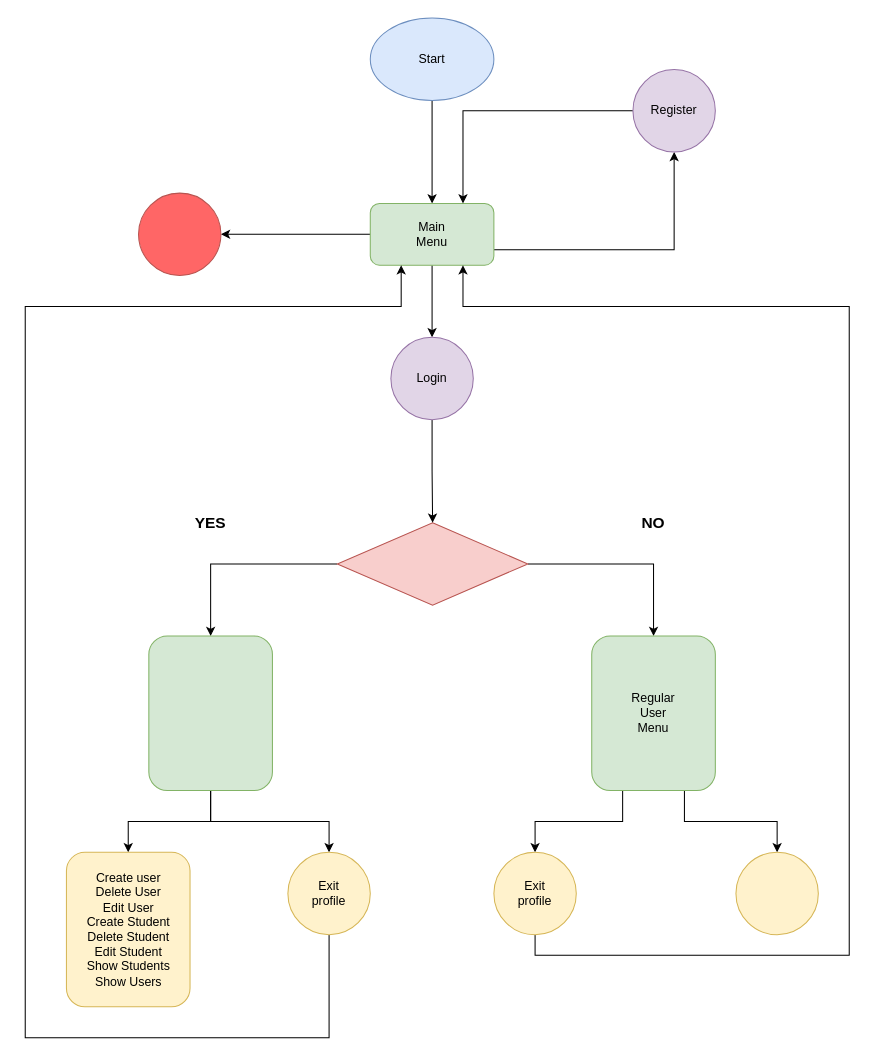
The diagram is 876 pixels wide and 1064 high, and some of its shapes have lost their labels. Each missing label, with the centre of its shape:
"Amin Menu" goes at point 210,713.
"Exit the program" goes at point 179,234.
"Is admin?" goes at point 432,563.
"Register Student" goes at point 776,893.
